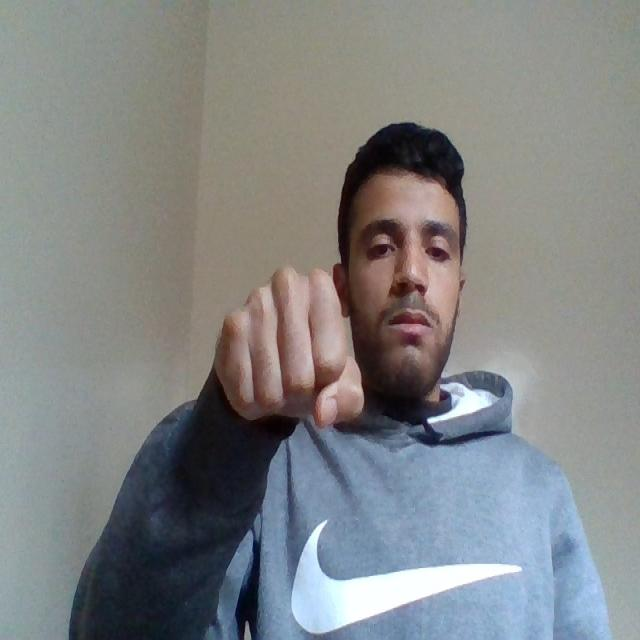No: (209, 254, 373, 434)
